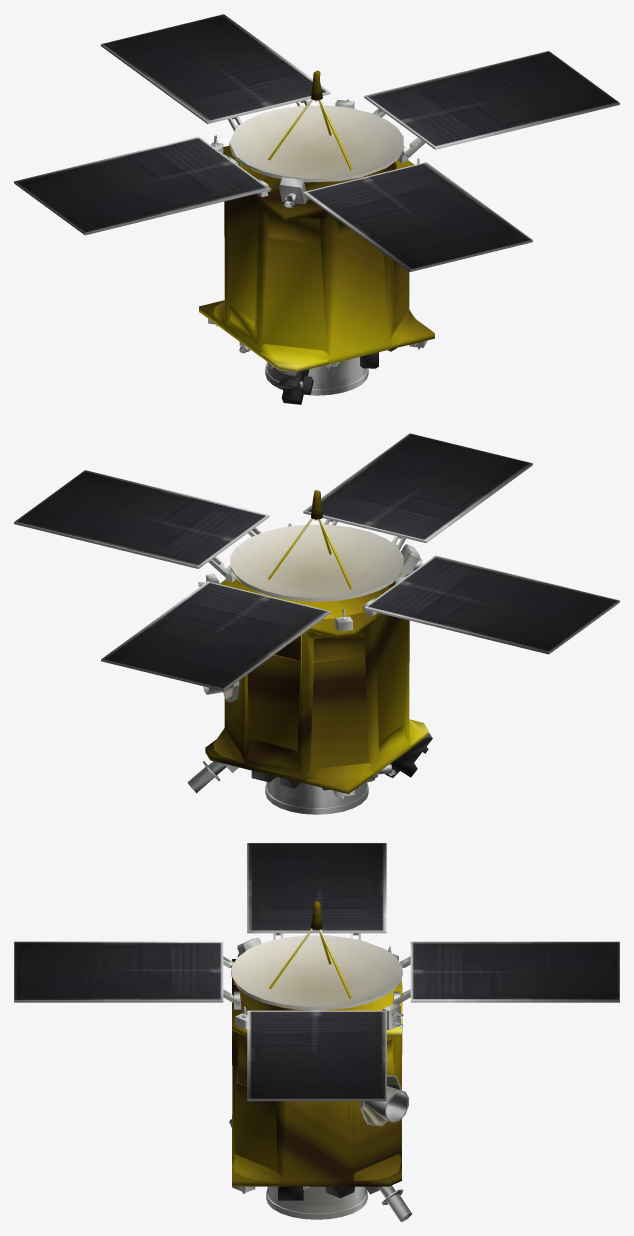
File: space-near.glb
3 renders of one model, top to bottom at view 1: azimuth 30°, elevation 25°; view 2: azimuth 150°, elevation 25°; view 3: azimuth 270°, elevation 25°, orthographic.
Visible parts, largest first — view 1: tex_01, foil_gold, foil_silver; view 2: tex_01, foil_gold, foil_silver; view 3: tex_01, foil_gold, foil_silver.
Part boxes in pixels (x1=…): tex_01: x1=14, y1=14, x2=619, y2=395; foil_gold: x1=199, y1=70, x2=434, y2=372; foil_silver: x1=277, y1=348, x2=396, y2=404; tex_01: x1=14, y1=433, x2=619, y2=814; foil_gold: x1=205, y1=490, x2=428, y2=793; foil_silver: x1=251, y1=732, x2=432, y2=790; tex_01: x1=14, y1=843, x2=619, y2=1221; foil_gold: x1=231, y1=901, x2=402, y2=1186; foil_silver: x1=229, y1=1119, x2=354, y2=1200.
Size of the model in its own units: 5.29 by 2.86 by 5.29.
Materials: 3 (3 with a texture image).
